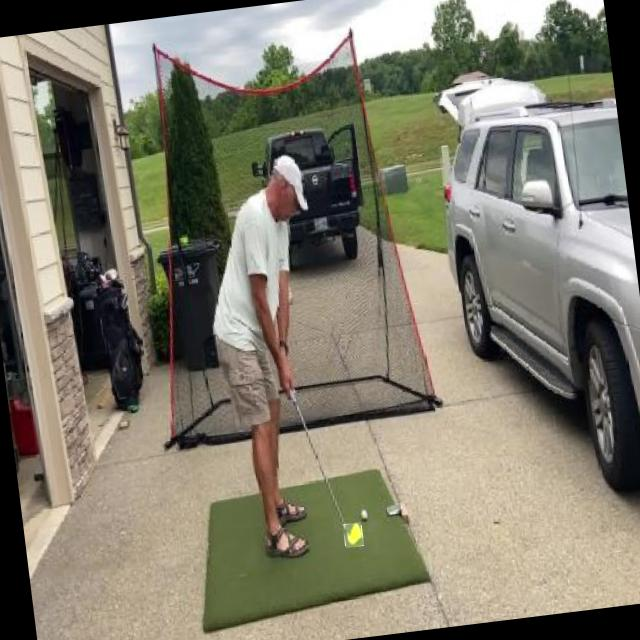club head: (343, 522, 364, 548)
